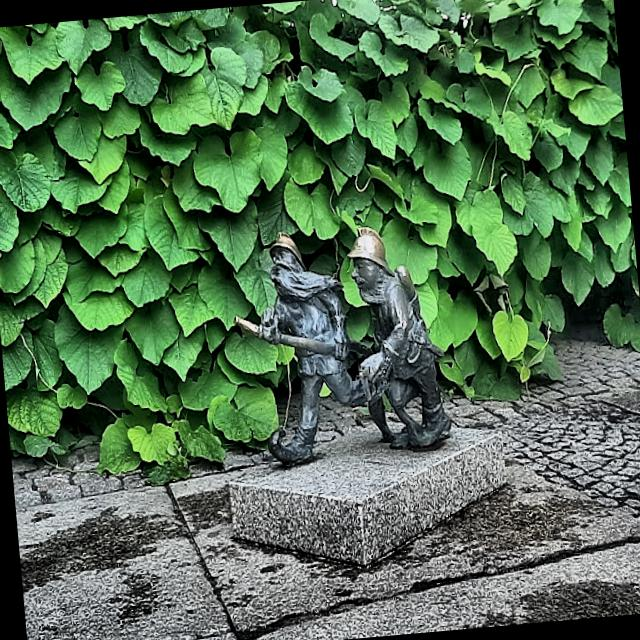Pozarki: (234, 227, 451, 465)
